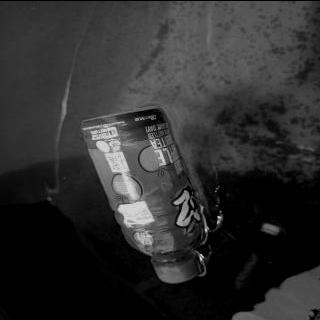bottle: (80, 105, 206, 282)
